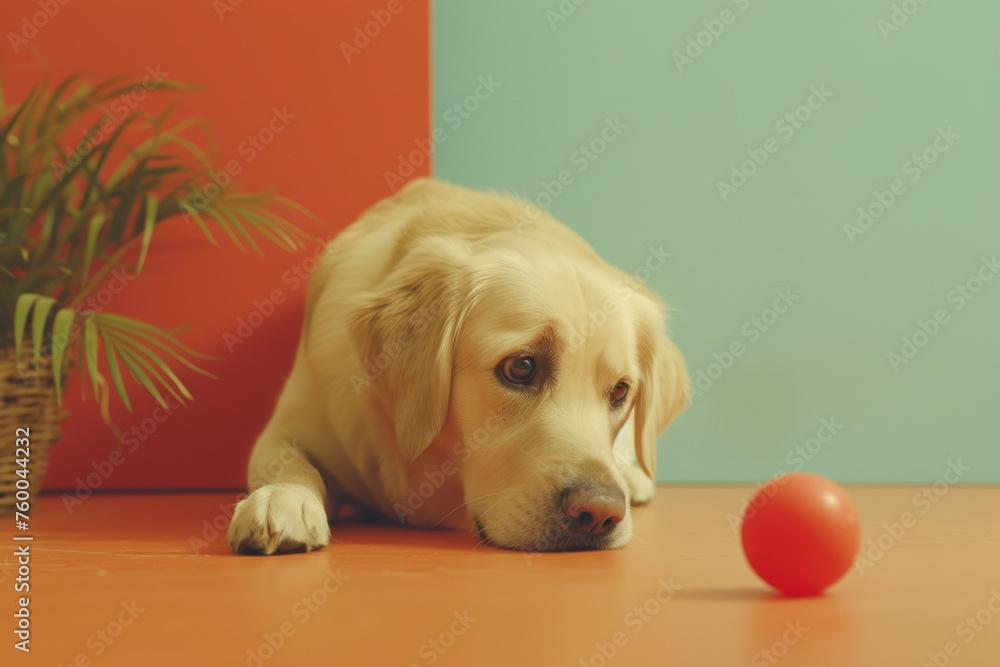Red_Ball: (738, 470, 870, 601)
